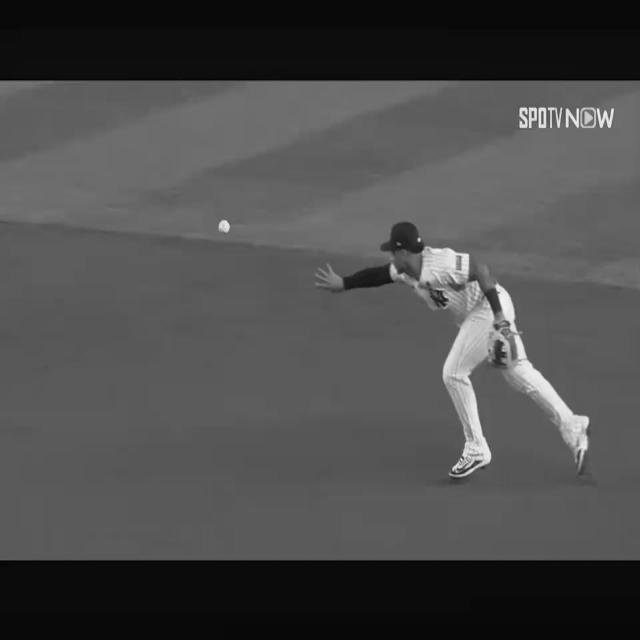baseball: (217, 222, 229, 236)
baseball_glove: (488, 317, 519, 368)
shoe: (449, 452, 491, 478), (572, 418, 592, 471)
